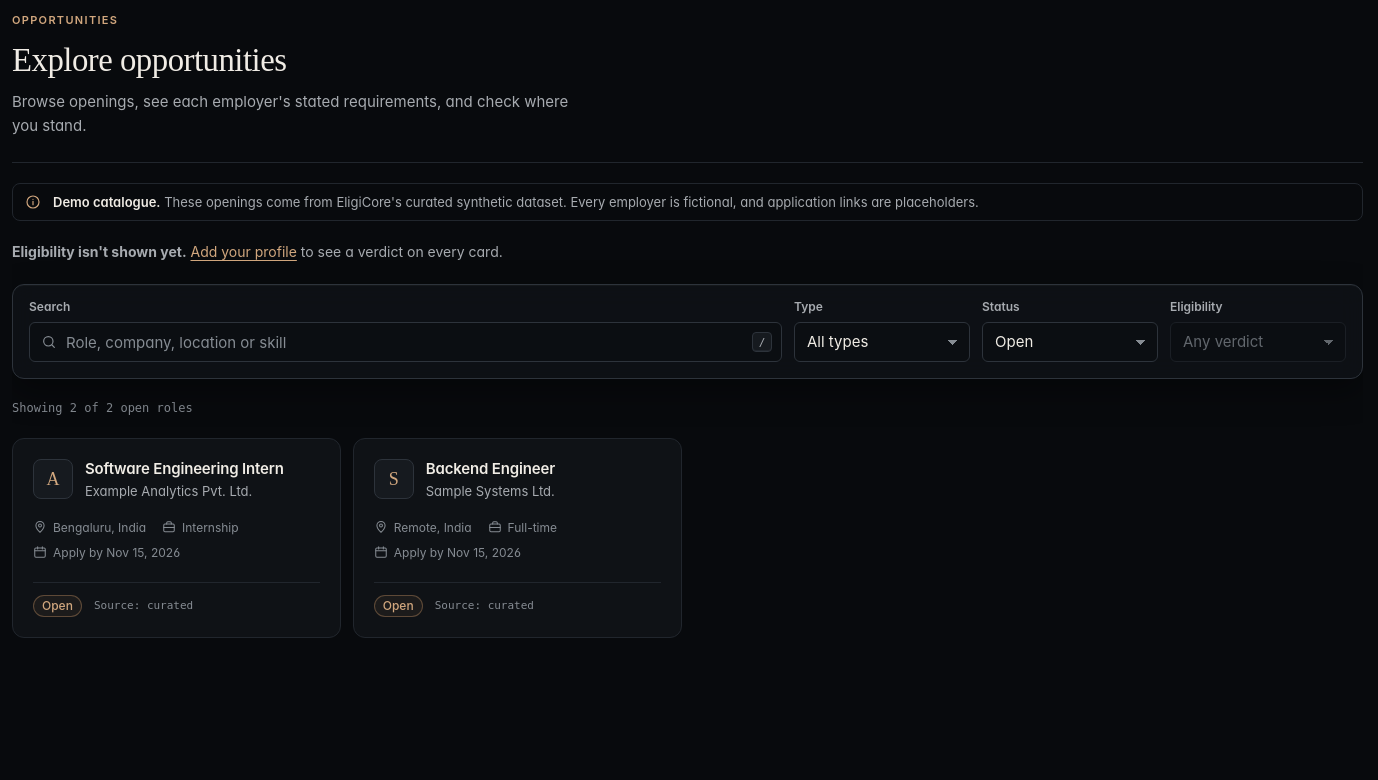
Test case: Opportunities › filters by search in the browser
This screenshot has width=1378, height=780.
Expected: the link "Software Engineering Intern" is shown, [85,459,284,478]
Type "remote" into the search field at (406,342), box [29,322,782,362]
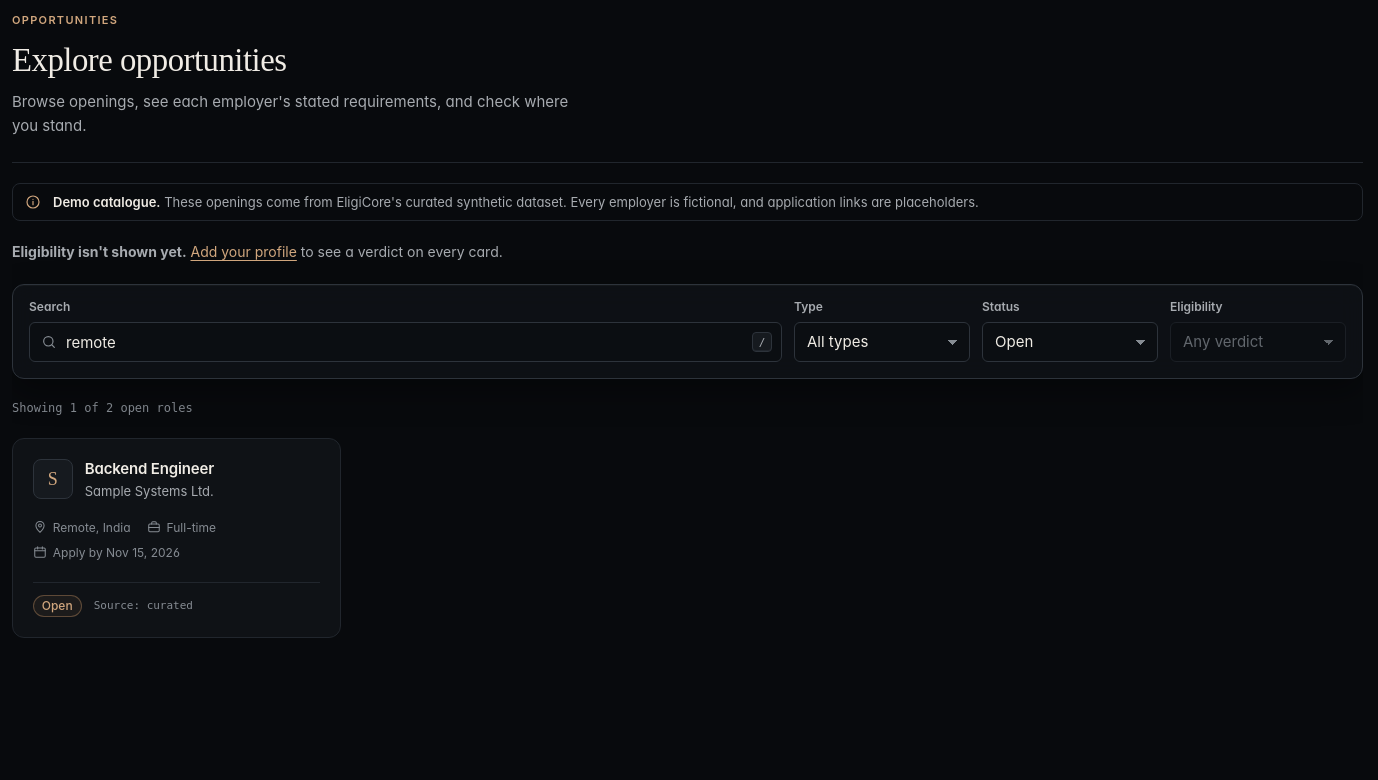
Expected: the link "Backend Engineer" is shown, [85,459,214,478]
Result: the link "Software Engineering Intern" is gone
Replace the text in the search field with "nothing-matches" at (406,342), box [29,322,782,362]
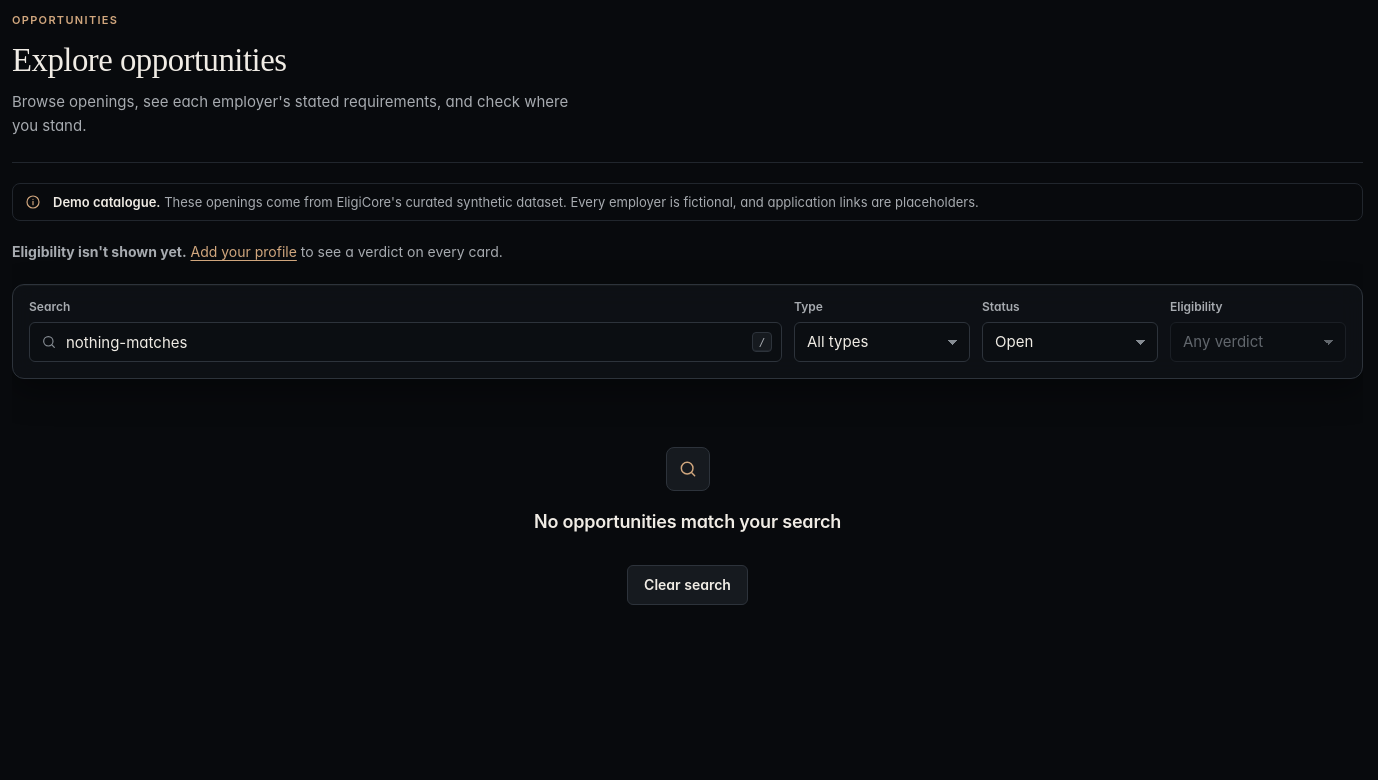
Result: the heading "No opportunities match your search" is shown at [534,511,841,533]
